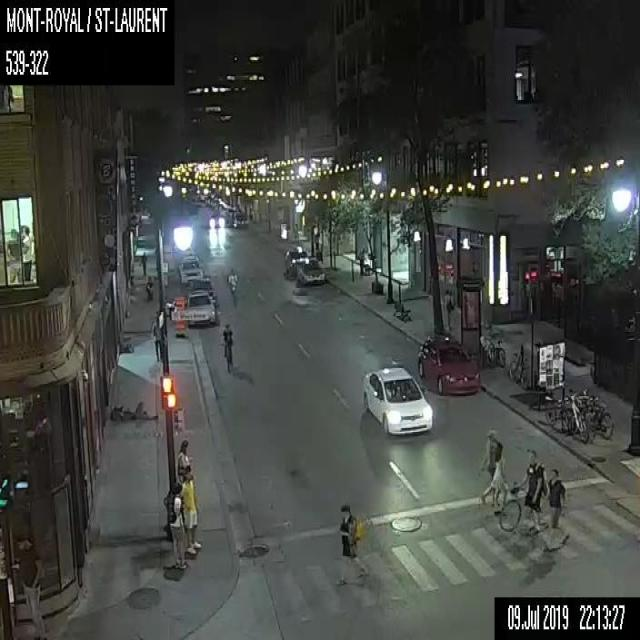construction: (174, 296, 186, 336)
cyclist: (221, 320, 233, 372), (227, 264, 238, 304)
pedestrian: (12, 530, 45, 638), (536, 468, 569, 552), (515, 445, 547, 530), (336, 504, 363, 585), (179, 463, 202, 554), (164, 480, 186, 571), (481, 441, 508, 510), (480, 429, 496, 498), (177, 439, 190, 481), (151, 309, 161, 363), (139, 249, 147, 276), (145, 275, 153, 300), (358, 244, 364, 276), (292, 221, 298, 240)
vehicle: (360, 363, 433, 437), (416, 336, 479, 396), (187, 289, 215, 326), (187, 276, 217, 306), (296, 258, 326, 286), (283, 248, 308, 276), (178, 253, 202, 282), (208, 210, 224, 227), (233, 211, 247, 227)
